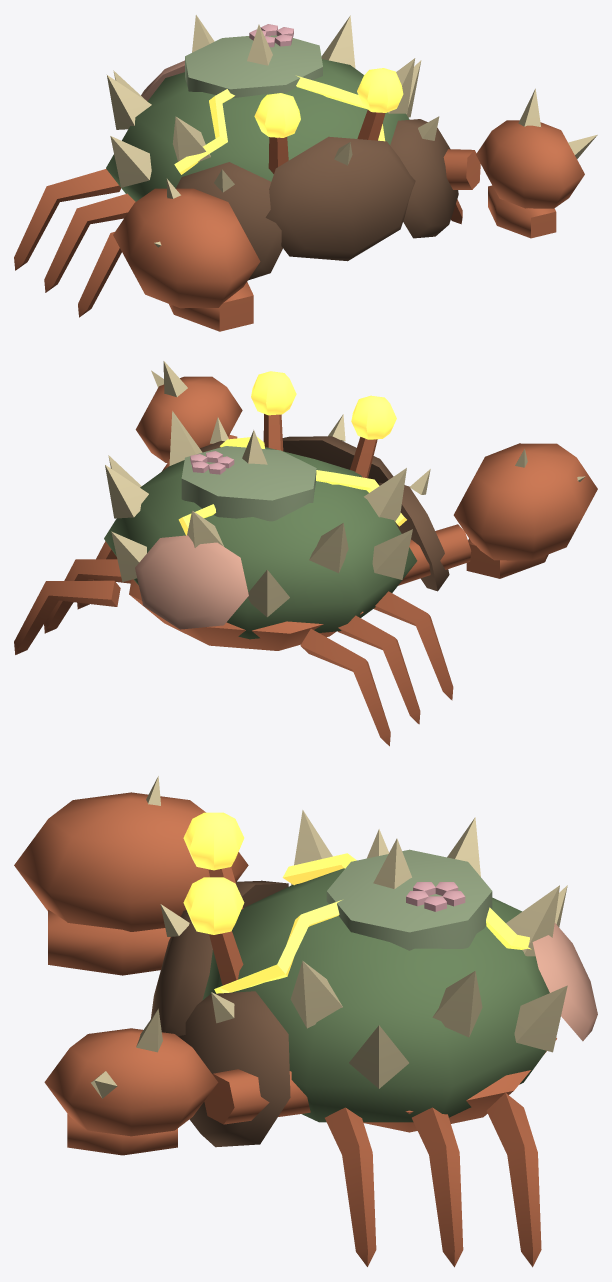
The model's file is elder-thorn-crab.glb.
3 renders of one model, top to bottom at view 1: azimuth 30°, elevation 25°; view 2: azimuth 150°, elevation 25°; view 3: azimuth 270°, elevation 25°, orthographic. The views are drawn at different scales.
Parts seen in each view (by area): view 1: body, claw_r, claw_l, legs_r, glow_eyes, glow_crack, eyes; view 2: body, claw_r, legs_r, claw_l, legs_l, glow_eyes, glow_crack, eyes; view 3: body, claw_r, claw_l, legs_l, glow_eyes, glow_crack, eyes.
Part boxes in pixels (bbox=[...]): body: bbox=[106, 15, 458, 280]; claw_r: bbox=[113, 178, 260, 331]; claw_l: bbox=[443, 88, 597, 238]; legs_r: bbox=[14, 169, 135, 317]; glow_eyes: bbox=[254, 68, 403, 137]; glow_crack: bbox=[174, 75, 385, 174]; eyes: bbox=[268, 110, 385, 173]; body: bbox=[104, 411, 449, 650]; claw_r: bbox=[398, 443, 597, 585]; legs_r: bbox=[300, 591, 453, 746]; claw_l: bbox=[135, 361, 242, 471]; legs_l: bbox=[14, 541, 131, 654]; glow_eyes: bbox=[251, 371, 396, 439]; glow_crack: bbox=[178, 437, 406, 535]; eyes: bbox=[263, 414, 377, 478]; body: bbox=[151, 810, 597, 1147]; claw_r: bbox=[14, 776, 248, 975]; claw_l: bbox=[44, 1008, 310, 1155]; legs_l: bbox=[325, 1093, 541, 1267]; glow_eyes: bbox=[183, 812, 244, 934]; glow_crack: bbox=[214, 853, 531, 993]; eyes: bbox=[208, 867, 243, 985].
Bounding box in the file's own units: 1.1 × 0.5488 × 0.9404.
